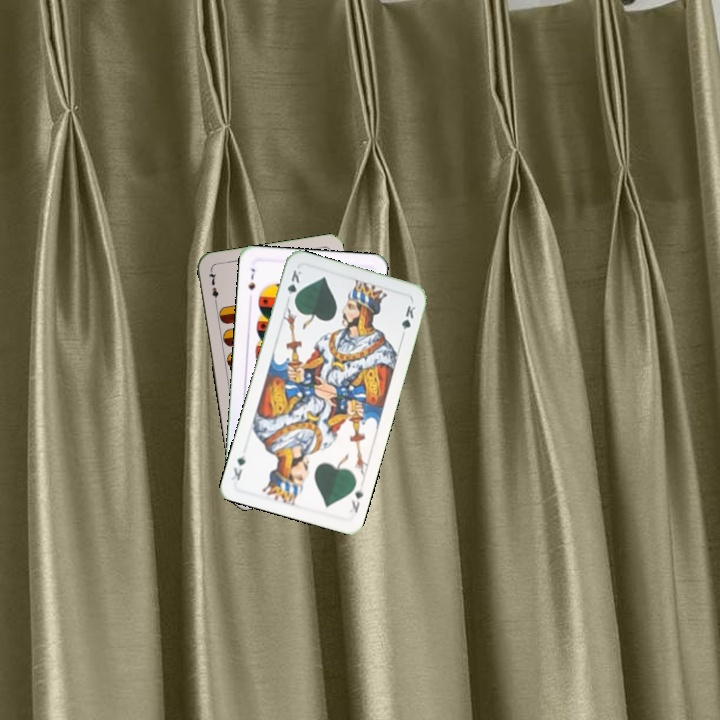E7: (204, 267, 221, 307)
GK: (283, 266, 305, 306), (347, 484, 366, 516)
S7: (244, 264, 258, 292)
